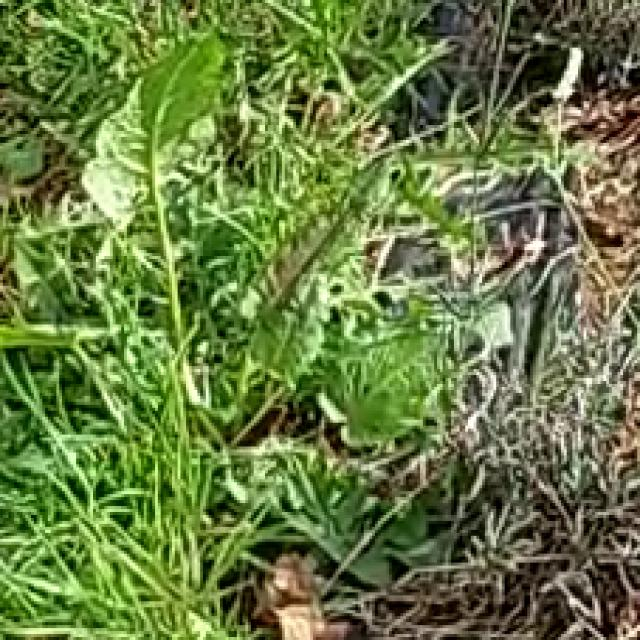organic waste: (11, 0, 420, 494)
